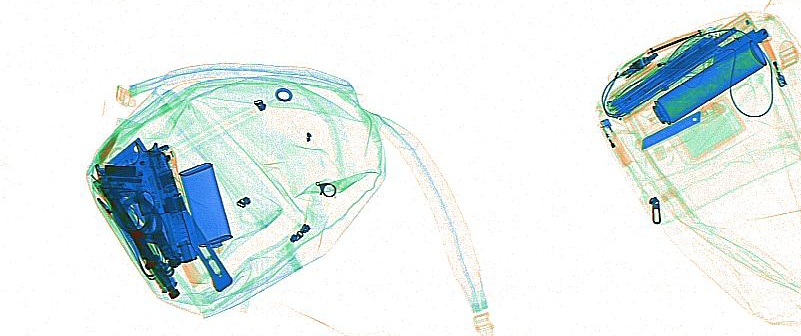handcuffs: (108, 188, 184, 269)
knife: (104, 137, 233, 293), (635, 99, 727, 152), (710, 27, 771, 70), (644, 28, 708, 56)
lighter: (594, 117, 635, 168), (759, 36, 788, 88)
pressure: (652, 36, 768, 126)
zippooil: (176, 161, 233, 248)
